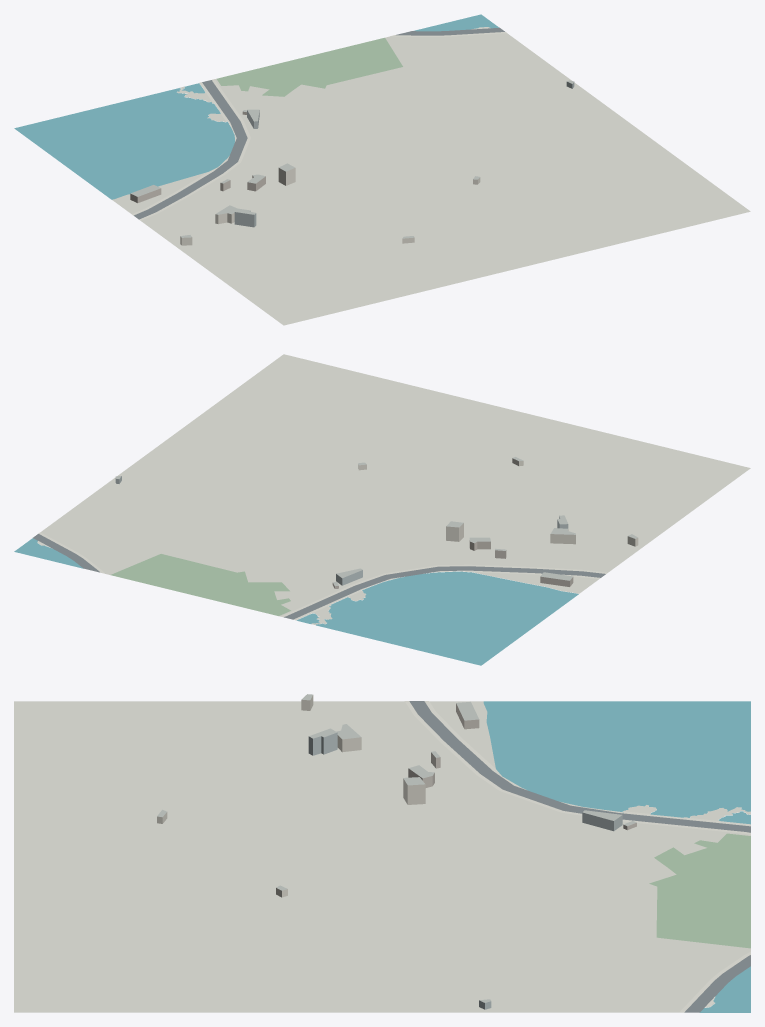
The picture shows the model from 3 angles, top to bottom: view 1: azimuth 30°, elevation 25°; view 2: azimuth 150°, elevation 25°; view 3: azimuth 270°, elevation 25°; orthographic projection. The views are drawn at different scales.
Parts seen in each view (by area): view 1: city; view 2: city; view 3: city.
Part boxes in pixels (x1=…): city: x1=14, y1=14, x2=750, y2=325; city: x1=14, y1=354, x2=750, y2=665; city: x1=14, y1=694, x2=750, y2=1012.
Size of the model in its own units: 500 by 14.88 by 500.
